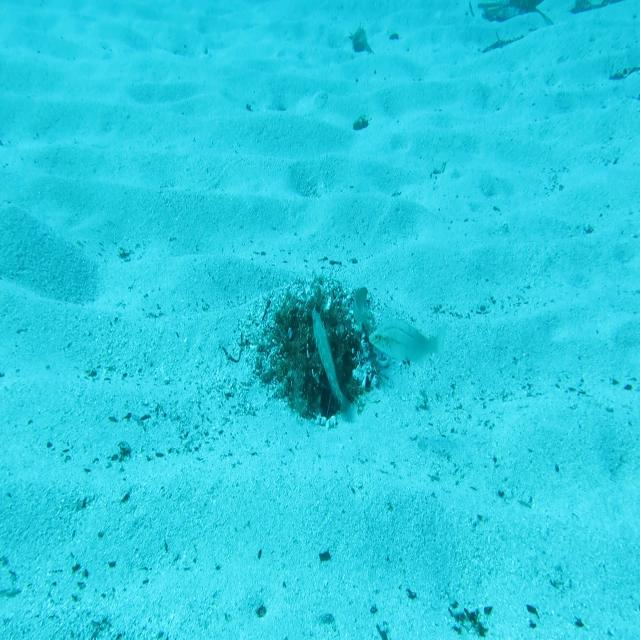SHAK: (311, 308, 354, 430)
female: (367, 313, 448, 367)
nest: (260, 281, 404, 431)
other_fish: (352, 285, 374, 336)
